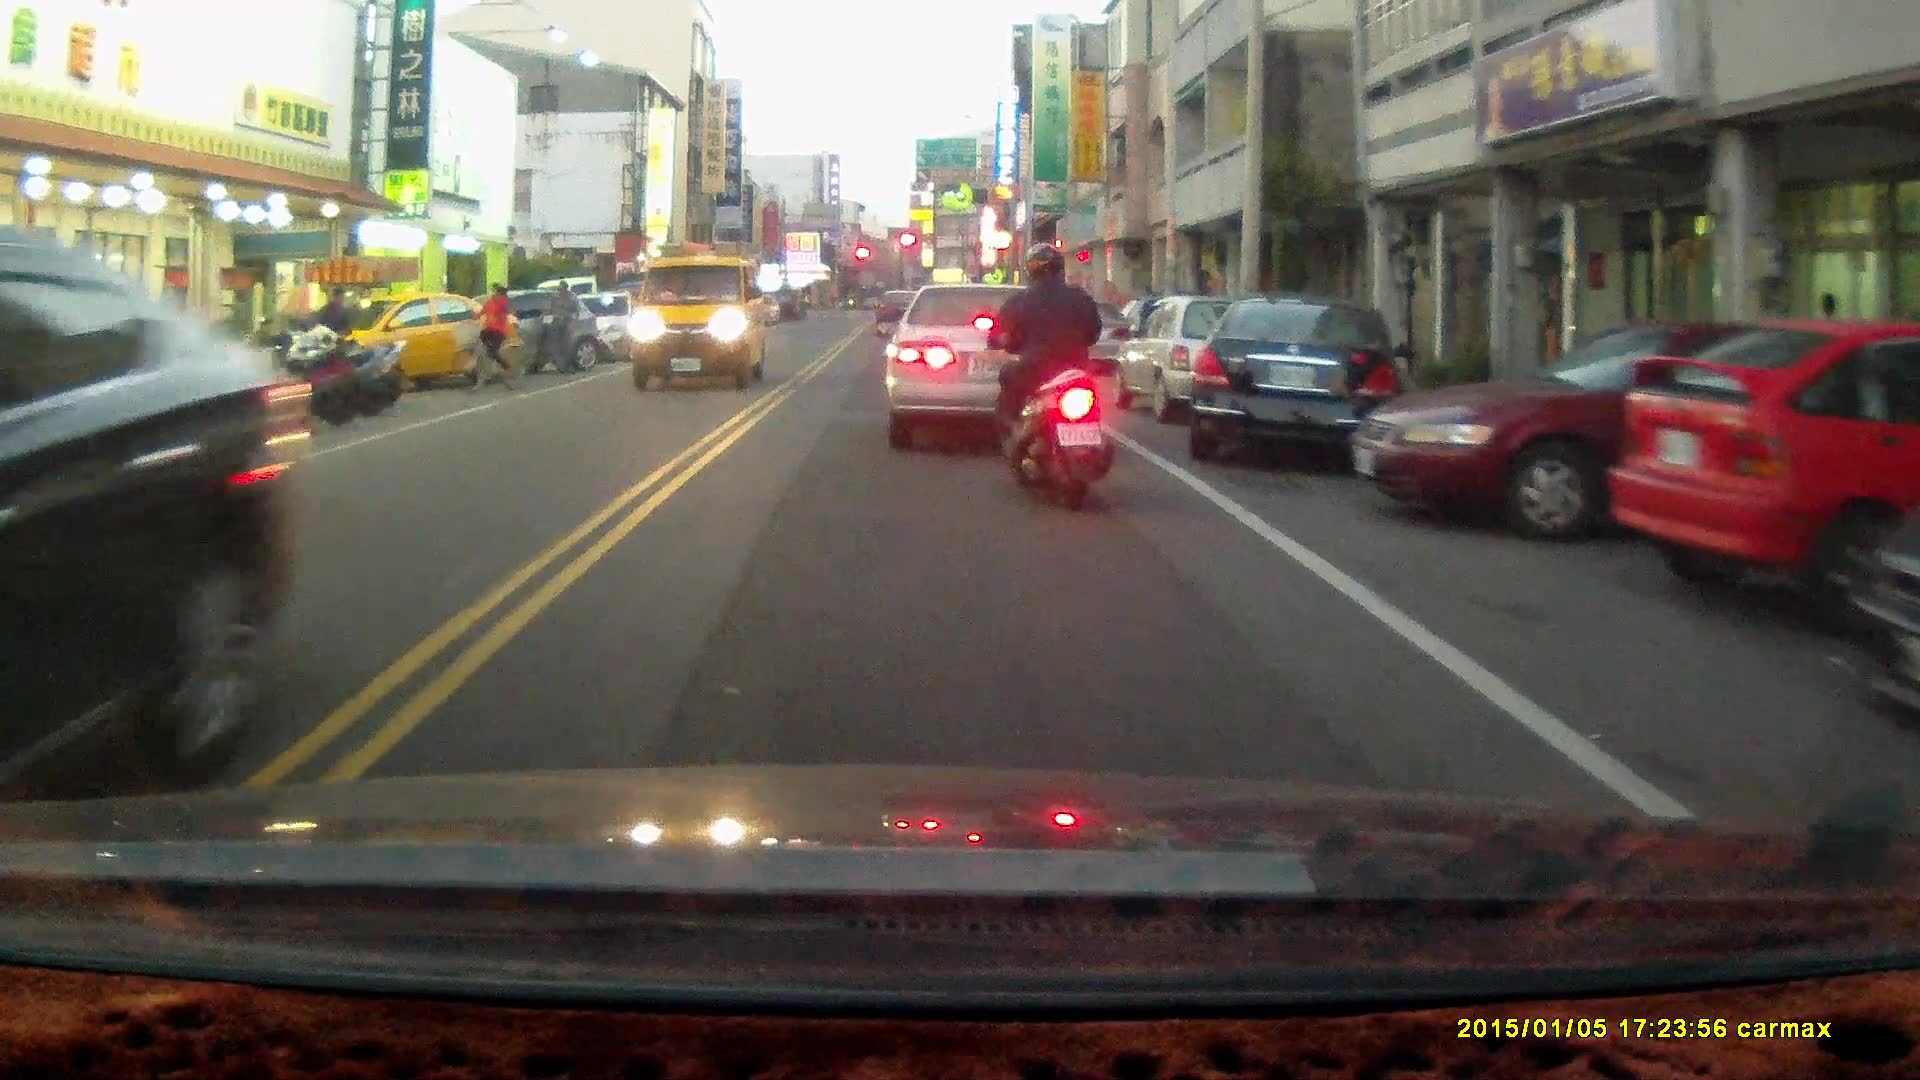pedestrian: (547, 275, 582, 373), (318, 283, 354, 370)
rider: (974, 236, 1120, 511), (449, 279, 526, 396)
vehicle: (1, 240, 300, 804), (1361, 311, 1836, 543), (1610, 314, 1920, 624), (1183, 291, 1408, 462), (888, 272, 1092, 435), (1103, 290, 1288, 423), (629, 245, 765, 389), (343, 289, 526, 386), (1852, 507, 1920, 733)
